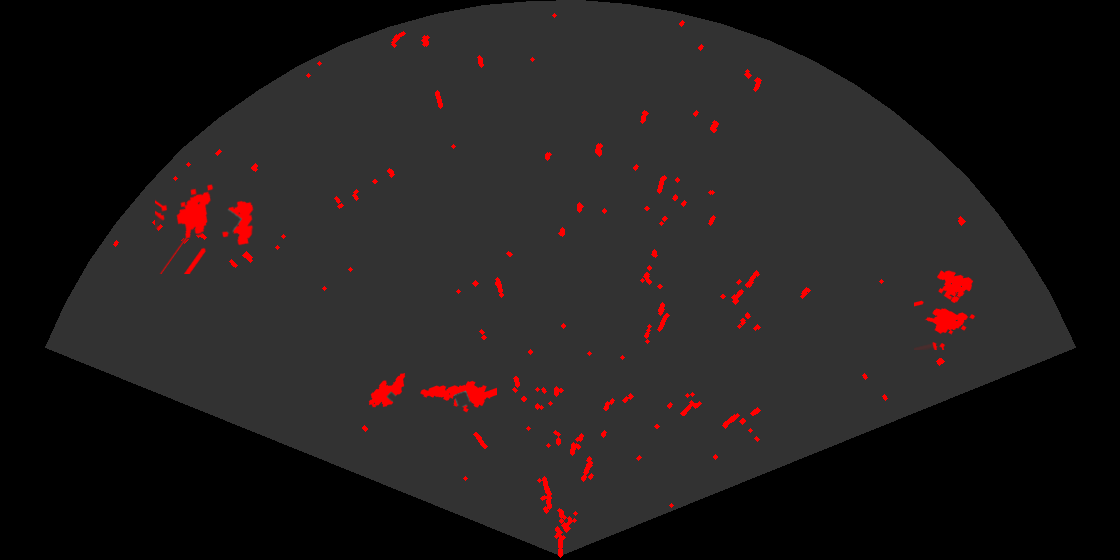AUV: (367, 371, 407, 409)
cage: (155, 183, 255, 274), (914, 269, 977, 350)
frogman: (419, 379, 497, 414)
